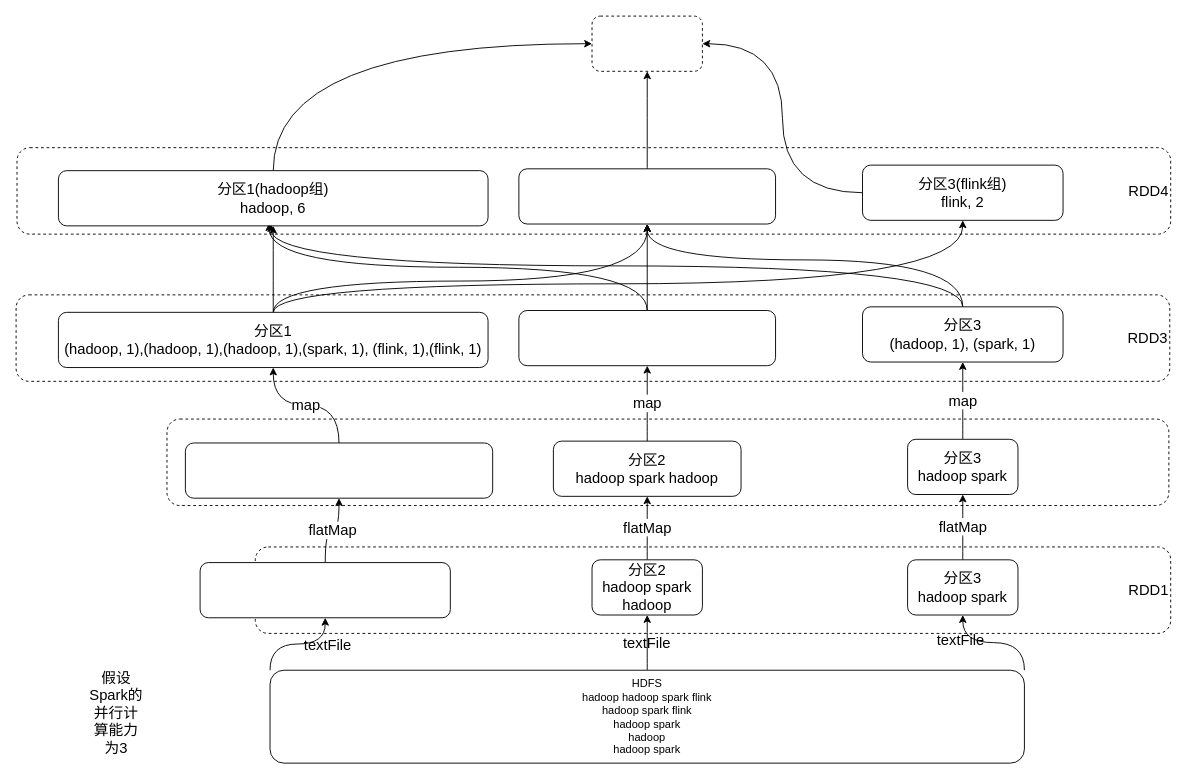
This 1187x779 diagram has some shape labels left out. Each missing label, with the box of its shape:
Driver: (591, 15, 702, 71)
RDD2: (166, 418, 1169, 506)
分区1 hadoop hadoop hadoop spark spark flink flink: (184, 442, 493, 498)
分区1 hadoop hadoop spark flink hadoop spark flink: (199, 562, 450, 618)
分区2 (hadoop,1), (hadoop,1), (spark, 1): (518, 310, 776, 366)
分区2(spark组) spark, 3: (518, 168, 776, 224)
